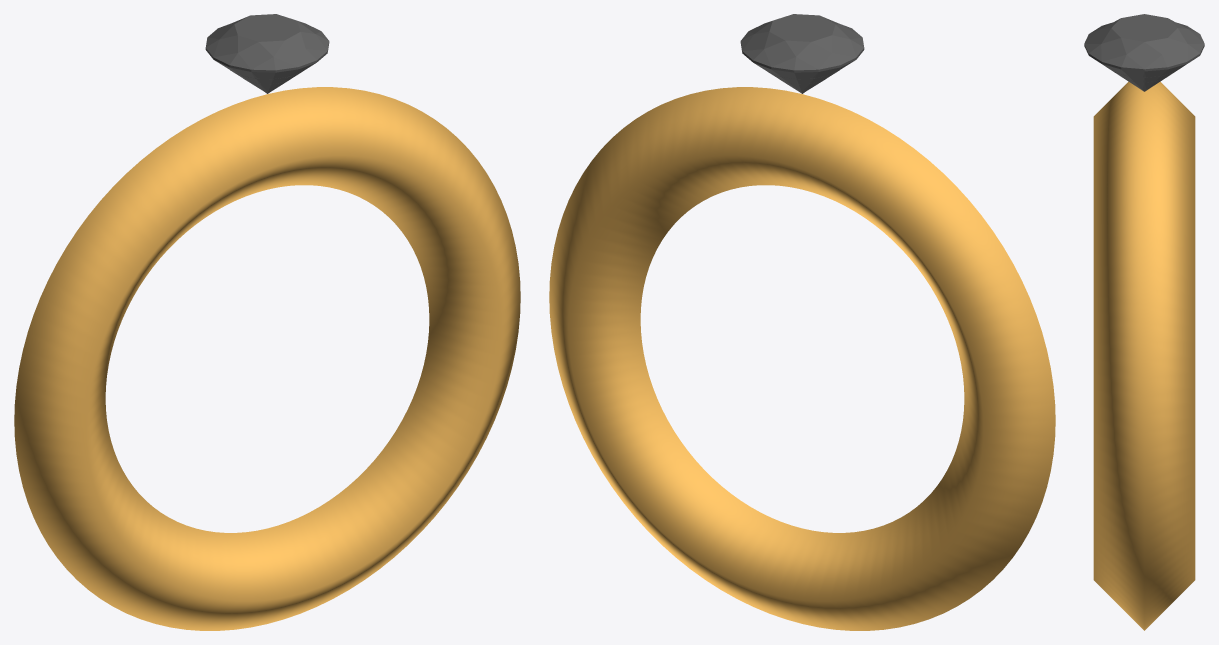
File: ring-alt.glb
3 views of the same model, side by side, from view 1: azimuth 30°, elevation 25°; view 2: azimuth 150°, elevation 25°; view 3: azimuth 270°, elevation 25° (orthographic). The views are drawn at different scales.
Visible parts, largest first — view 1: Band, Stone_Large; view 2: Band, Stone_Large; view 3: Band, Stone_Large, Stone_Medium.
Boxes of the visible parts, x1,y1,x2,y2 form: Band: [14, 87, 520, 630]; Stone_Large: [205, 14, 329, 93]; Band: [549, 87, 1055, 630]; Stone_Large: [740, 14, 864, 93]; Band: [1093, 81, 1195, 630]; Stone_Large: [1084, 14, 1204, 90]; Stone_Medium: [1113, 71, 1175, 91].
Bounding box in the file's own units: 2.44 × 2.74 × 0.52.
